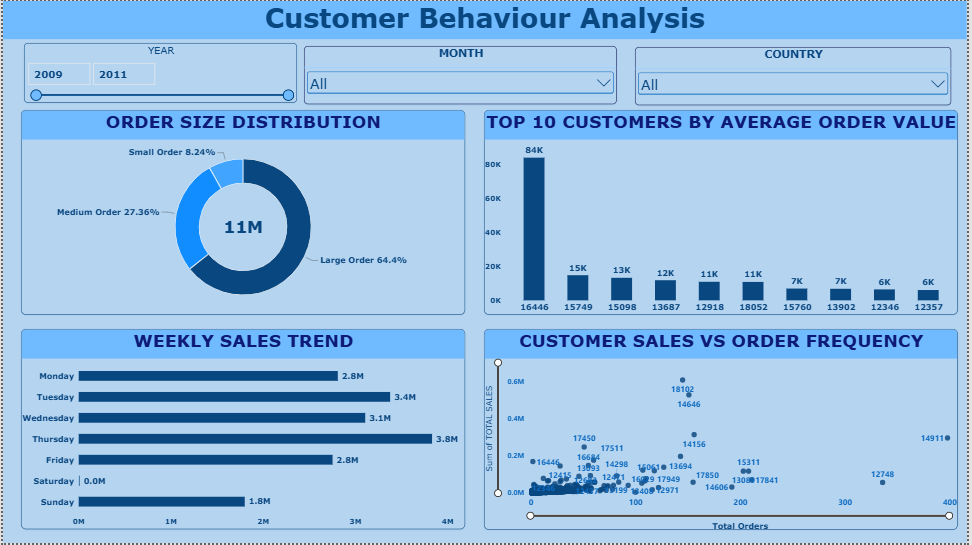

The dashboard page shown, as its layout file describes it:
{"tool":"powerbi","page":{"name":"Customer Behaviour Analysis","canvas":[1920,1080],"ordinal":6},"visuals":[{"type":"textbox","box":[0,0,1920.2,75.6],"z":0},{"type":"donutChart","title":"  ORDER SIZE DISTRIBUTION","fields":{"Category":["CLEANED.Order Size Category"],"Y":["Sum(CLEANED.Quantity)"]},"box":[35.9,217.3,885.1,407.8],"z":1000},{"type":"clusteredColumnChart","title":"TOP 10 CUSTOMERS BY AVERAGE ORDER VALUE","fields":{"Category":["CLEANED.Customer ID"],"Y":["CLEANED.Average Order Value"]},"box":[959.3,217.3,943.9,408.3],"z":2000},{"type":"scatterChart","title":"CUSTOMER SALES VS ORDER FREQUENCY","fields":{"Category":["CLEANED.Customer ID"],"X":["CLEANED.Total Orders"],"Y":["Sum(CLEANED.TOTAL SALES)"]},"box":[959.3,654.1,943.9,399.5],"z":3000},{"type":"slicer","title":"YEAR","fields":{"Values":["CLEANED.YEAR"]},"box":[41.3,84.6,544.4,118.5],"z":4000},{"type":"slicer","title":"MONTH","fields":{"Values":["CLEANED.MONTH"]},"box":[600.8,88.8,623.4,116.3],"z":5000},{"type":"slicer","title":"COUNTRY","fields":{"Values":["CLEANED.Country"]},"box":[1259.4,90.8,630,116.3],"z":6000},{"type":"barChart","title":"WEEKLY SALES TREND","fields":{"Category":["CLEANED.Day of Week"],"Y":["Sum(CLEANED.TOTAL SALES)"]},"box":[35.9,654.3,885.1,398.8],"z":7000}]}

Visuals, with their boxes in screenshot pixels (x1, y1, x2, y2), scaled from the page's 1920x1080 canvas onto the 972x545 screenshot:
textbox: box=[0, 0, 971, 38]
"  ORDER SIZE DISTRIBUTION" donutChart: box=[18, 110, 466, 315]
"TOP 10 CUSTOMERS BY AVERAGE ORDER VALUE" clusteredColumnChart: box=[486, 110, 963, 316]
"CUSTOMER SALES VS ORDER FREQUENCY" scatterChart: box=[486, 330, 963, 532]
"YEAR" slicer: box=[21, 43, 297, 102]
"MONTH" slicer: box=[304, 45, 620, 103]
"COUNTRY" slicer: box=[638, 46, 957, 105]
"WEEKLY SALES TREND" barChart: box=[18, 330, 466, 531]
